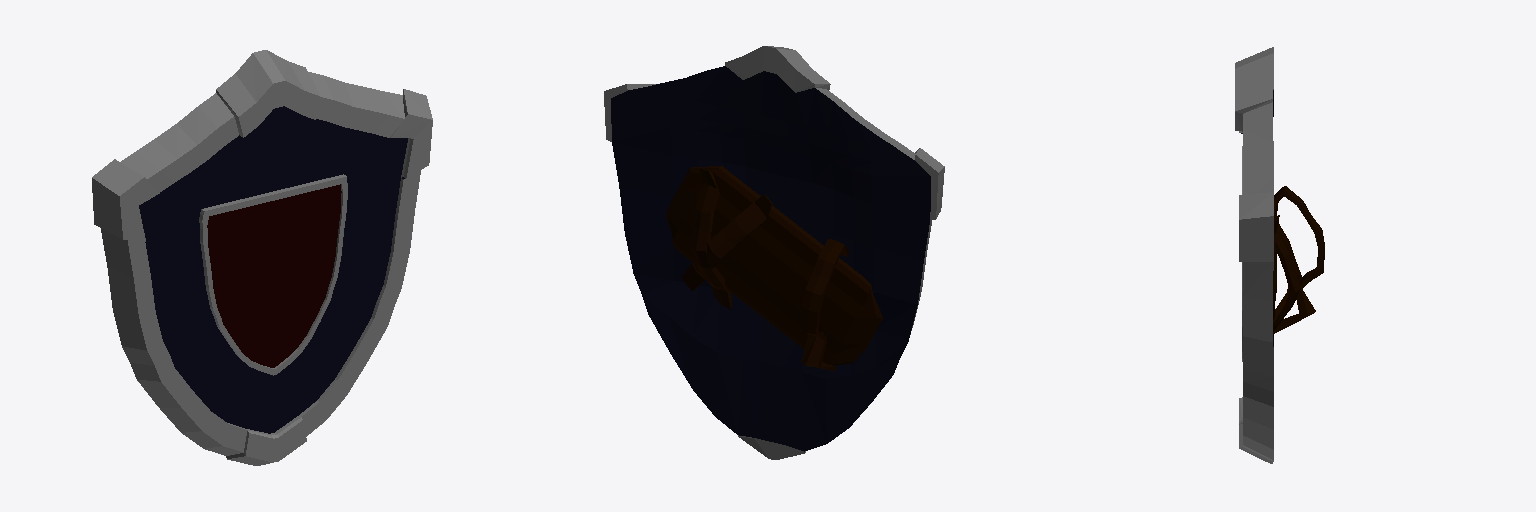
The model's file is ShieldTextureOBJ.obj.
3 views of the same model, side by side, from view 1: azimuth 30°, elevation 25°; view 2: azimuth 150°, elevation 25°; view 3: azimuth 270°, elevation 25° (orthographic).
Visible parts, largest first — view 1: pCube2, pCube1; view 2: pCube2, pCube4, pCube3, pCube6, pCube5; view 3: pCube2, pCube3, pCube6.
Boxes of the visible parts, x1=… form: pCube2: x1=92, y1=50, x2=432, y2=465; pCube1: x1=199, y1=174, x2=347, y2=375; pCube2: x1=604, y1=46, x2=944, y2=459; pCube4: x1=666, y1=166, x2=882, y2=365; pCube3: x1=800, y1=239, x2=848, y2=371; pCube6: x1=690, y1=169, x2=731, y2=309; pCube5: x1=682, y1=194, x2=772, y2=290; pCube2: x1=1235, y1=47, x2=1273, y2=463; pCube3: x1=1273, y1=186, x2=1324, y2=333; pCube6: x1=1274, y1=215, x2=1300, y2=328.
Size of the model in its own units: 7.85 by 9.25 by 1.85.